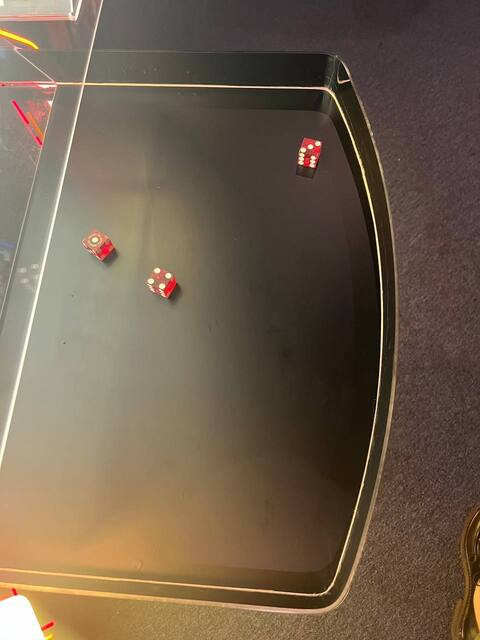four: (144, 264, 176, 292)
one: (82, 226, 109, 253)
three: (296, 135, 325, 155)
